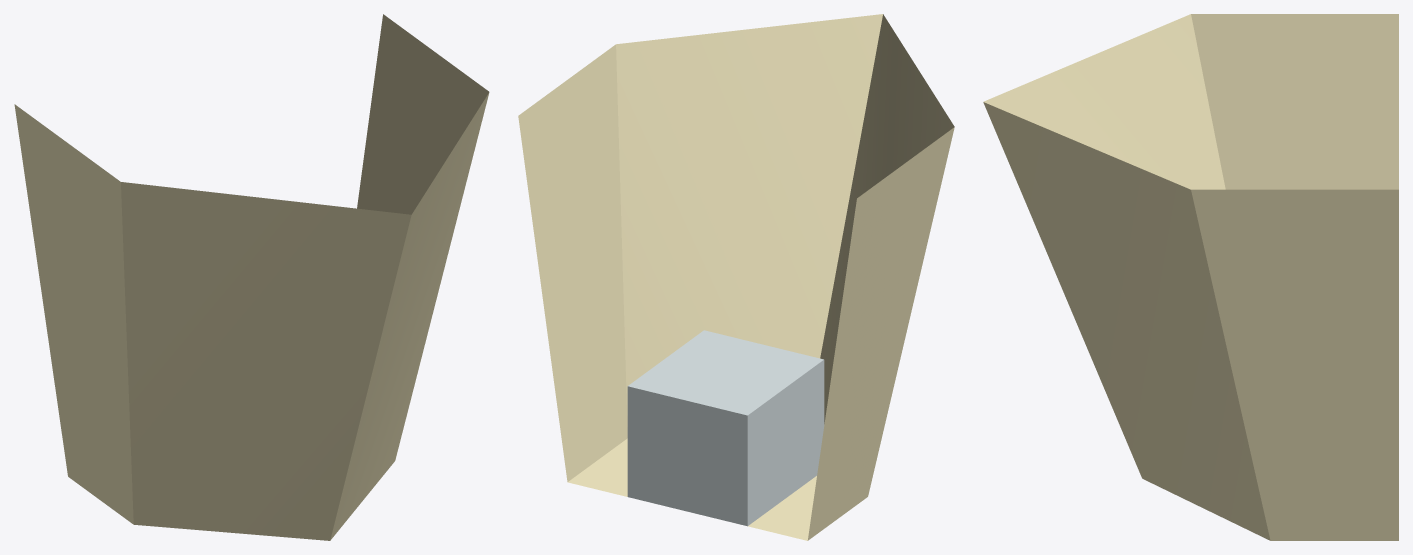
Rendered from kn-lamp-wall.glb.
3 views of the same model, side by side, from view 1: azimuth 30°, elevation 25°; view 2: azimuth 150°, elevation 25°; view 3: azimuth 270°, elevation 25° (orthographic). The views are drawn at different scales.
Parts seen in each view (by area): view 1: lampWall(Clone); view 2: lampWall(Clone); view 3: lampWall(Clone).
Part boxes in pixels (left/top/right/bottom): lampWall(Clone): left=14, top=14, right=489, bottom=540; lampWall(Clone): left=518, top=14, right=954, bottom=540; lampWall(Clone): left=983, top=14, right=1398, bottom=540.
Size of the model in its own units: 1 by 1 by 1.
